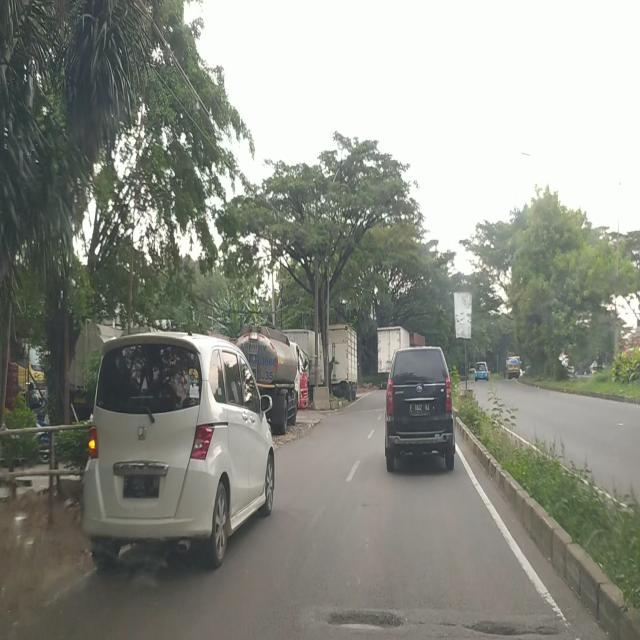Sewer Cover: (325, 617, 554, 640)
